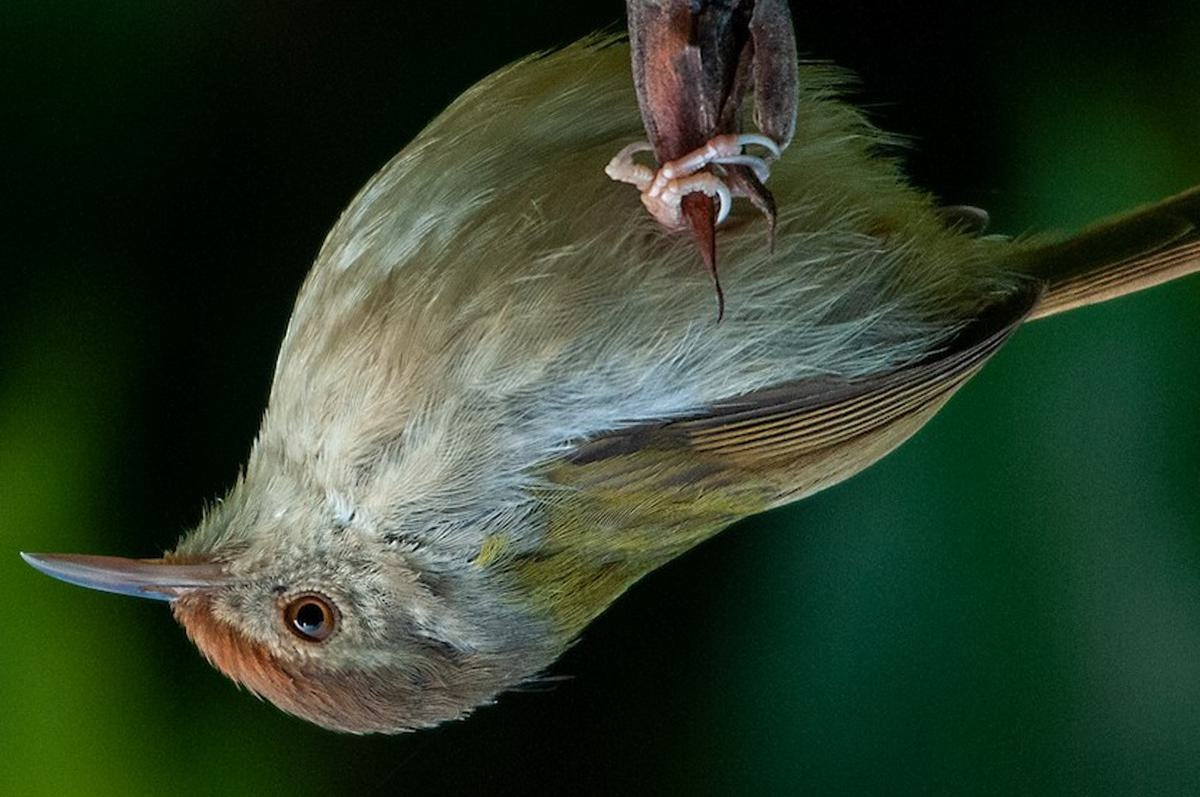tailorbird: (90, 60, 1200, 711)
